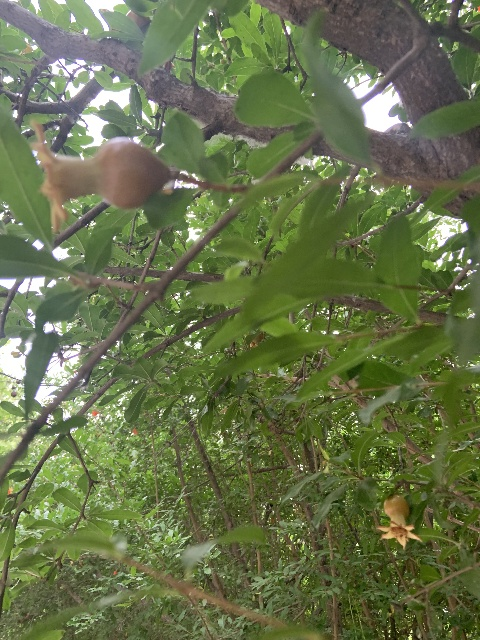early-fruit: (27, 120, 173, 233), (374, 494, 422, 548)
